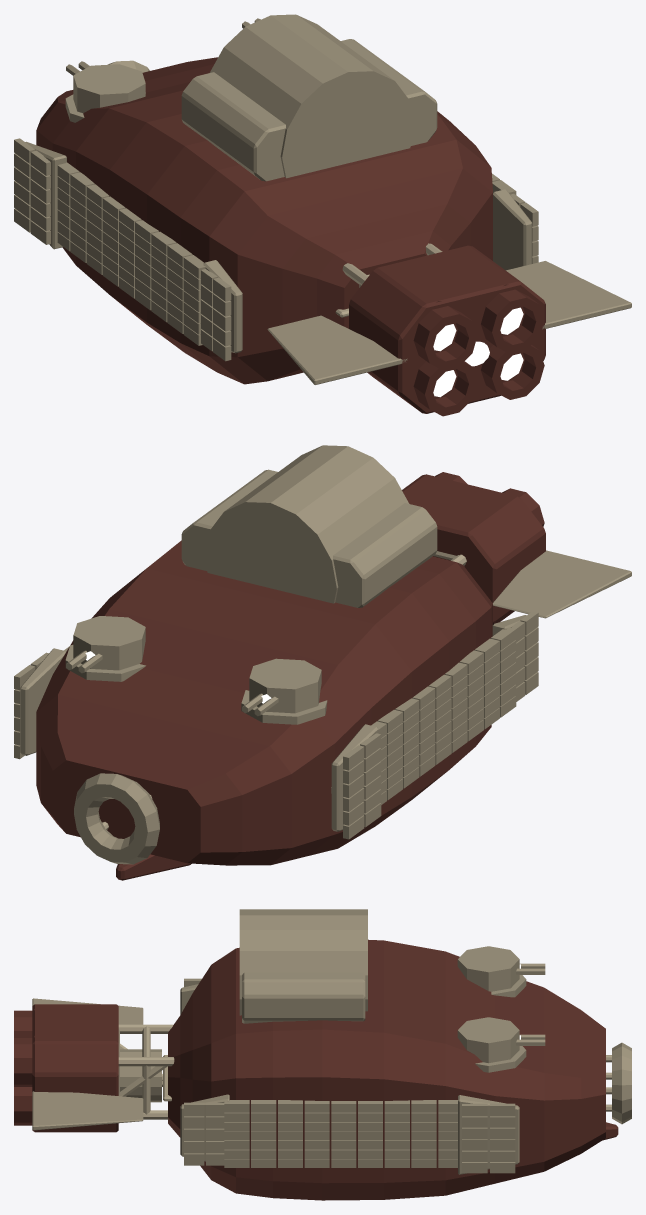
3 views of the same model, one above another, from view 1: azimuth 30°, elevation 25°; view 2: azimuth 150°, elevation 25°; view 3: azimuth 270°, elevation 25° (orthographic). The views are drawn at different scales.
Visible parts, largest first — view 1: RIMWARD_HULL, RIMWARD_EMISSIVE; view 2: RIMWARD_HULL; view 3: RIMWARD_HULL.
Part boxes in pixels (x1,y1,x2,y2): RIMWARD_HULL: (14,14,631,416); RIMWARD_EMISSIVE: (433,307,523,397); RIMWARD_HULL: (14,445,631,880); RIMWARD_HULL: (14,909,631,1200).
Size of the model in its own units: 8.82 by 7.41 by 17.04.
